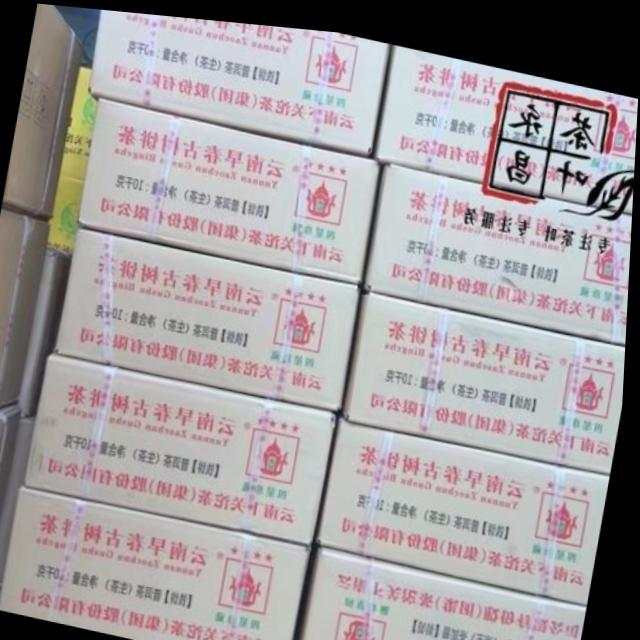box: (29, 350, 344, 540), (58, 223, 364, 405), (78, 95, 380, 275), (321, 408, 613, 592), (343, 282, 629, 463), (6, 484, 315, 640), (362, 154, 634, 330), (92, 8, 395, 150), (375, 40, 638, 199), (307, 540, 592, 640), (5, 3, 89, 214), (0, 207, 51, 408), (48, 65, 98, 252), (25, 244, 76, 413), (0, 408, 41, 588), (0, 401, 26, 549)
